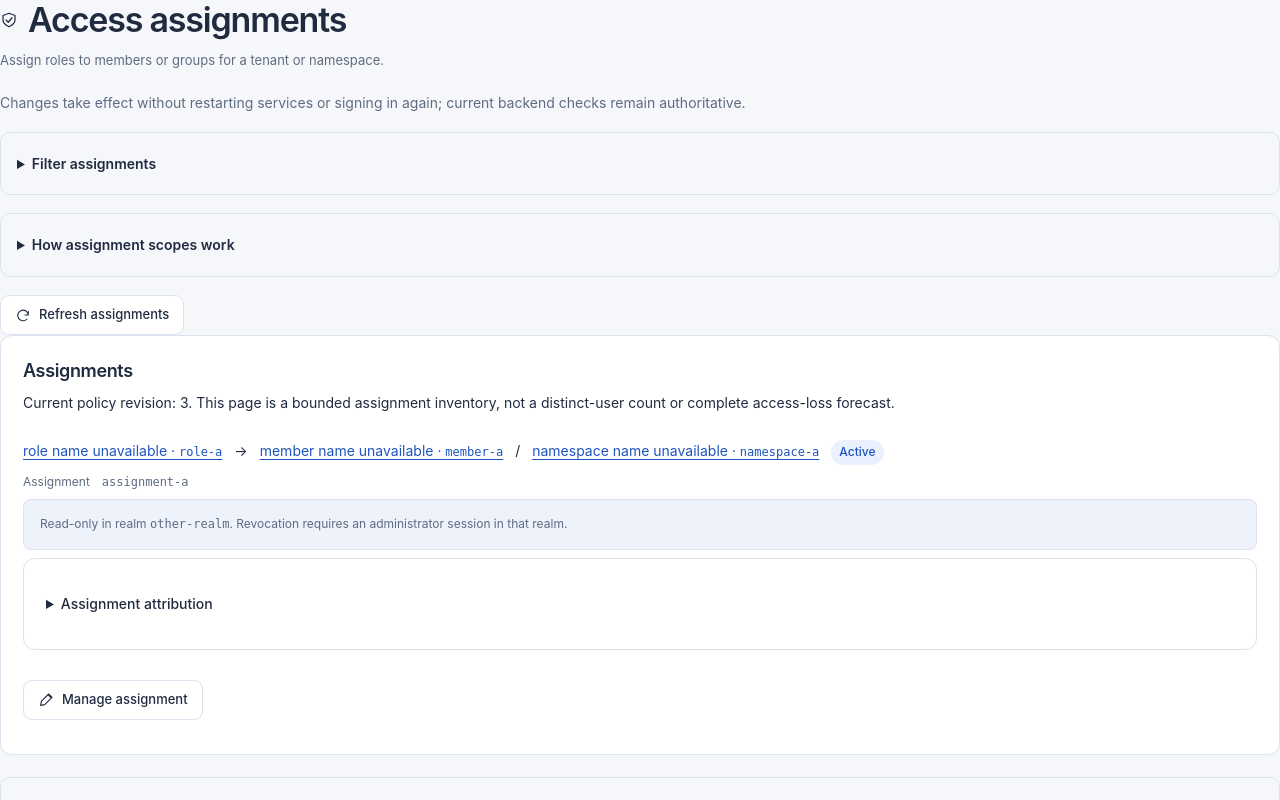
Test: keeps foreign-realm assignments readable without offering a usable revoke draft
Check: the text "Read-only in realm" is shown, box x1=40 y1=516 x2=150 y2=531
Click the button with aria-label "Manage assignment assignment-a".
click(113, 700)  # box x1=23 y1=680 x2=203 y2=720
(page scrolled)
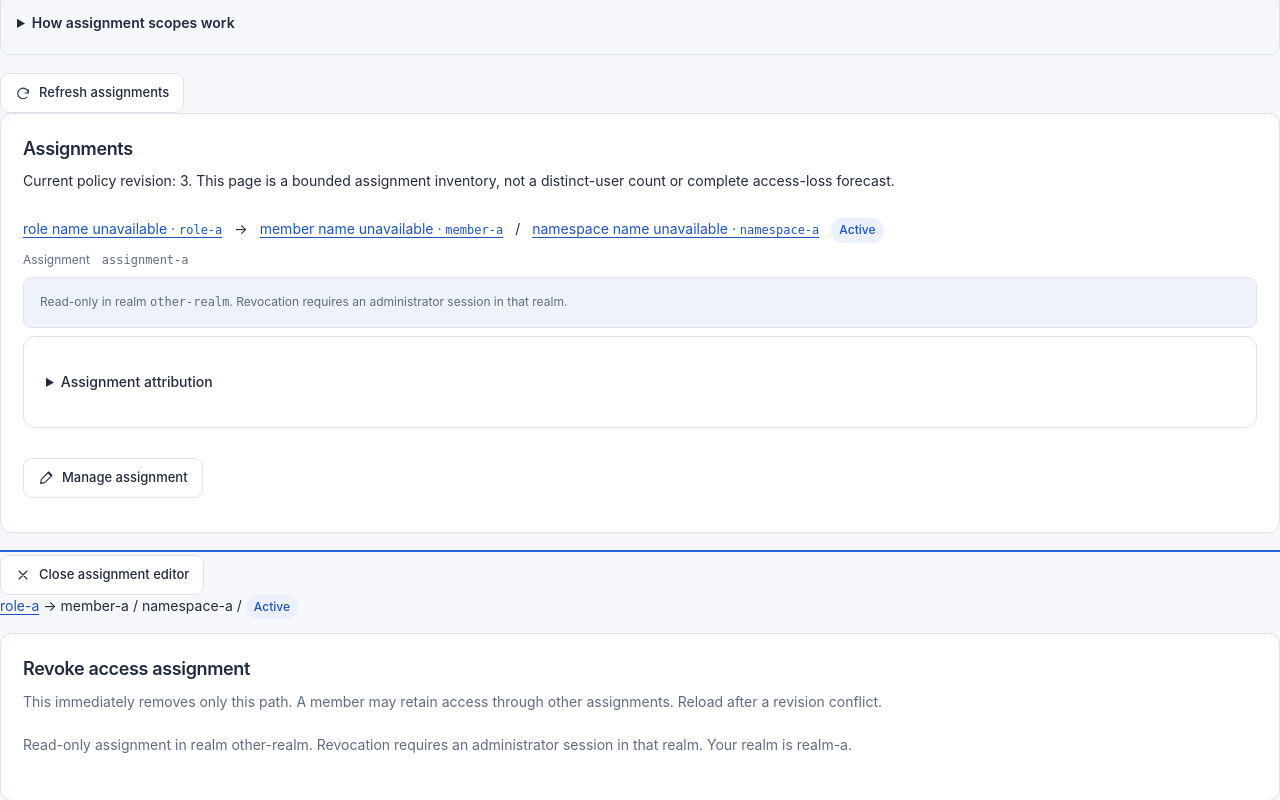
Check: the text "Read-only assignment in realm other-realm" is shown, box x1=23 y1=736 x2=852 y2=753
